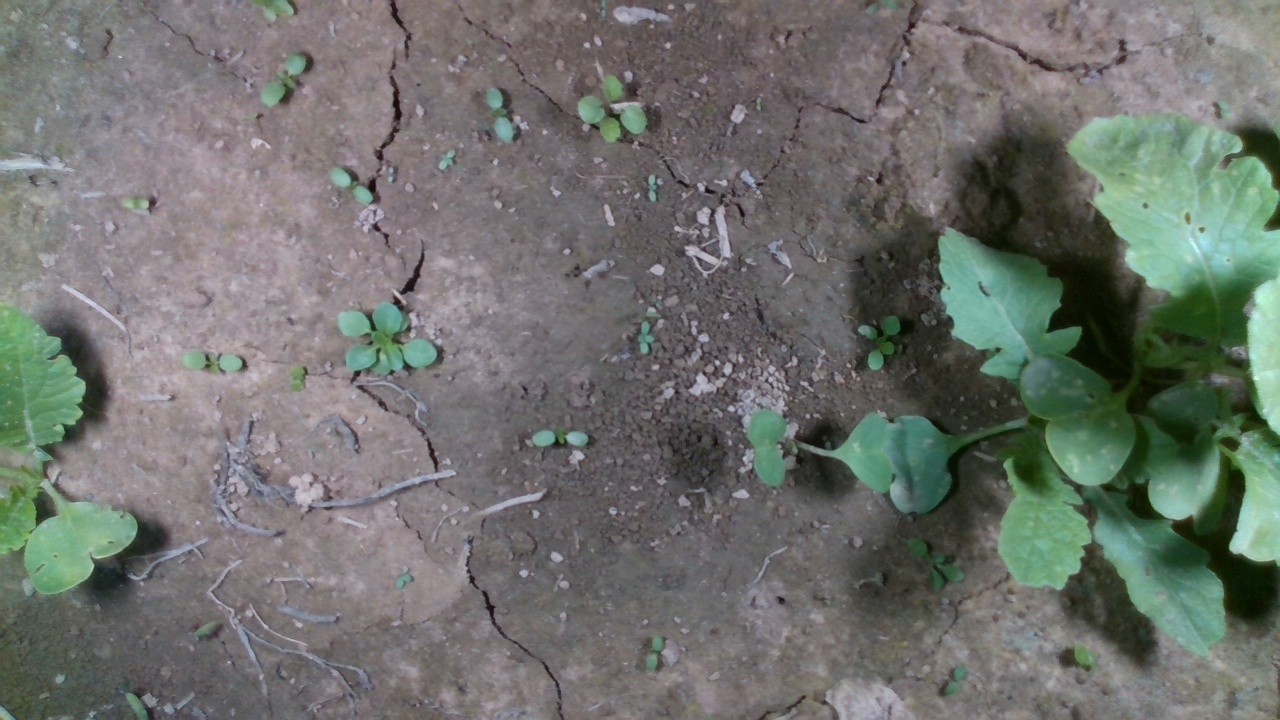weed: (574, 72, 650, 143), (259, 50, 310, 109), (855, 314, 901, 370), (484, 85, 515, 144), (328, 166, 373, 204), (180, 350, 245, 374), (527, 429, 589, 447), (633, 318, 655, 357), (287, 364, 306, 393), (436, 148, 456, 172), (120, 195, 151, 209)
